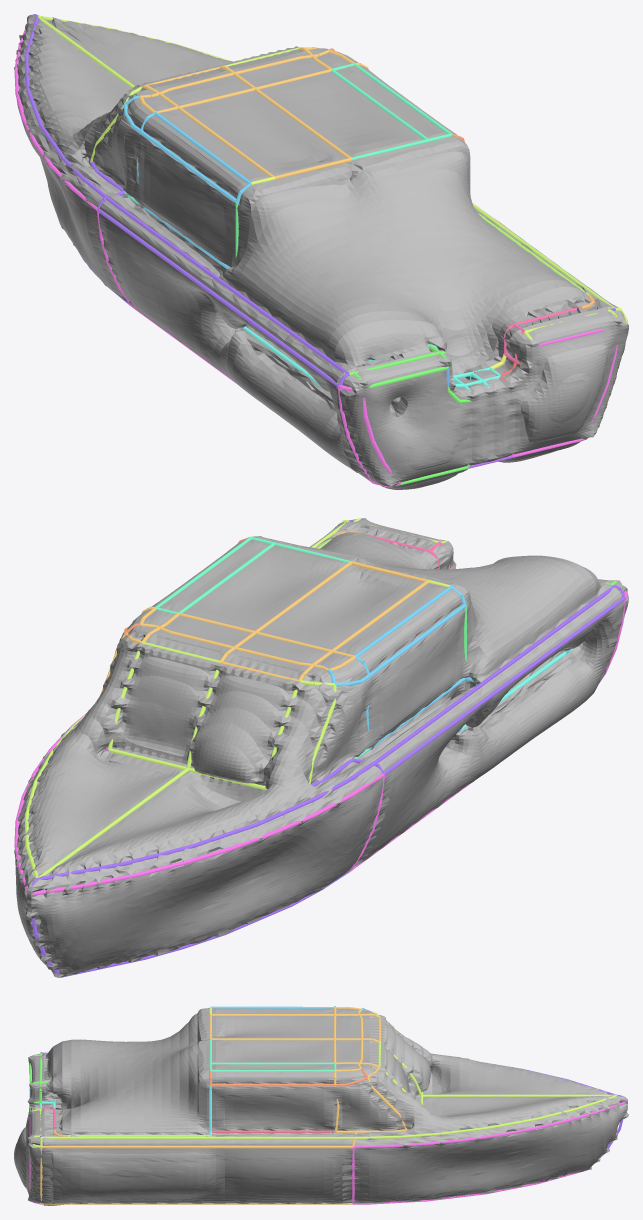
Rendered from flowrep_boat.gltf.
3 renders of one model, top to bottom at view 1: azimuth 30°, elevation 25°; view 2: azimuth 150°, elevation 25°; view 3: azimuth 270°, elevation 25°, orthographic. The views are drawn at different scales.
Bounding box in the file's own units: 0.3394 × 0.2609 × 0.9485.
